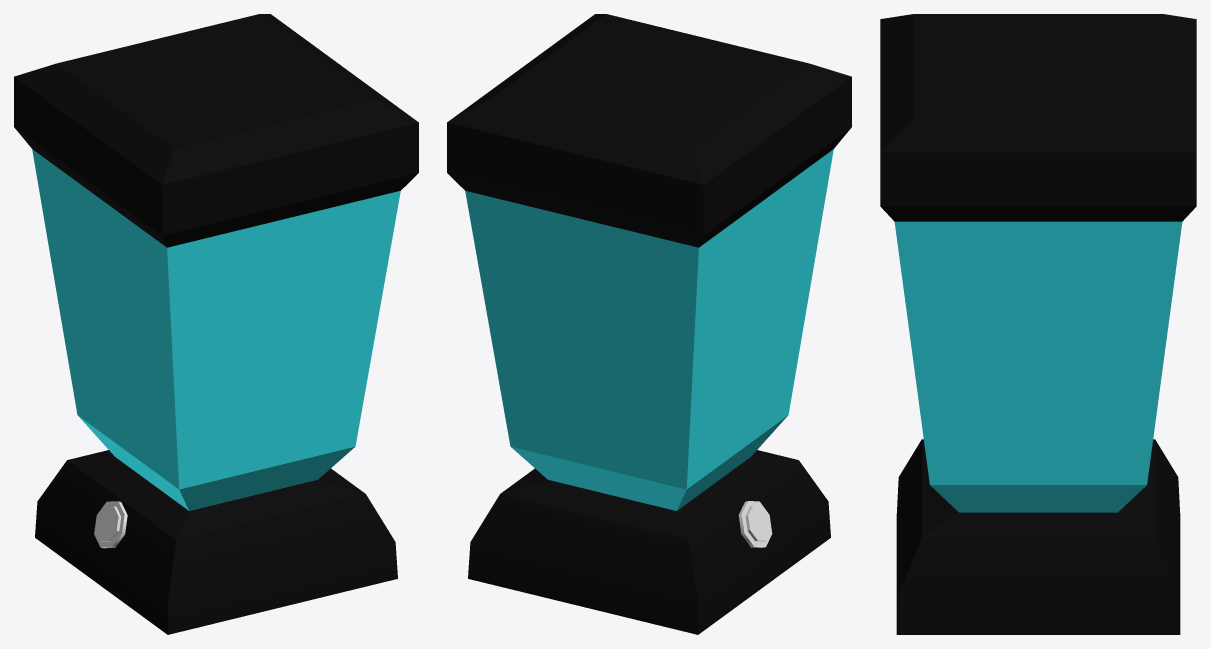
The model's file is Blender.FBX.
3 renders of one model, left to right at view 1: azimuth 30°, elevation 25°; view 2: azimuth 150°, elevation 25°; view 3: azimuth 270°, elevation 25°, orthographic. The views are drawn at different scales.
Visible parts, largest first — view 1: glass, lid, base, knob; view 2: glass, lid, base, knob; view 3: glass, lid, base.
Boxes of the visible parts, x1,y1,x2,y2 form: glass: [32, 149, 400, 510]; lid: [14, 14, 418, 247]; base: [35, 450, 397, 634]; knob: [94, 501, 127, 548]; glass: [465, 149, 833, 510]; lid: [447, 14, 851, 247]; base: [468, 450, 830, 634]; knob: [738, 501, 772, 547]; glass: [894, 221, 1182, 512]; lid: [880, 14, 1196, 221]; base: [896, 439, 1180, 634].
Bounding box in the file's own units: 5.97 × 10.6 × 5.97.
